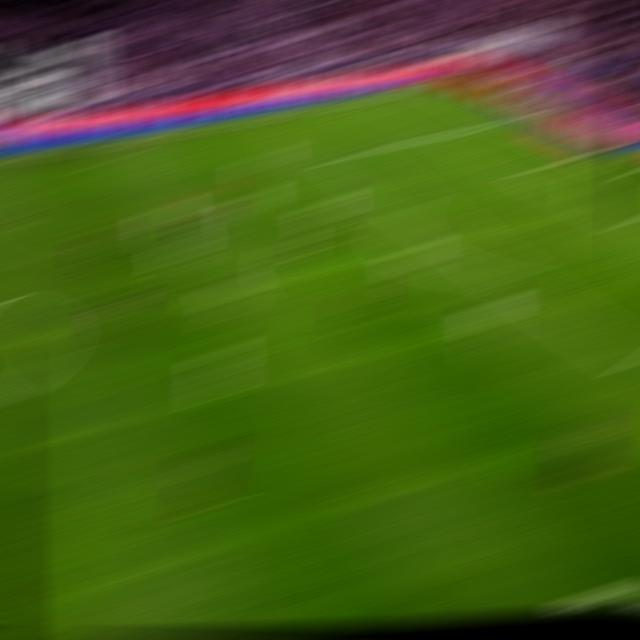bigarea_top_inner: (329, 151, 359, 160)
bigarea_top_outter: (502, 113, 532, 120)
bottom_arc_area_intersection: (499, 271, 533, 284)
corner: (428, 80, 460, 86)
smallarea_top_inner: (518, 162, 550, 171)
top_arc_area_intersection: (396, 200, 426, 206)
